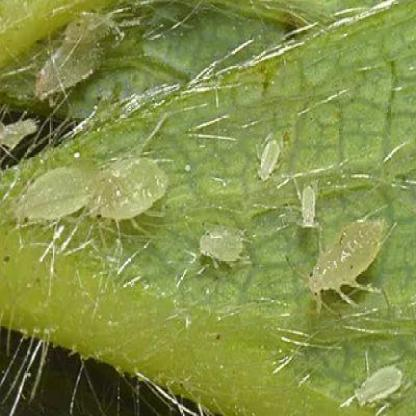aphid: (303, 214, 402, 317), (88, 139, 180, 246), (5, 154, 94, 237), (27, 31, 109, 103), (194, 208, 261, 277), (339, 356, 416, 416), (291, 169, 330, 246), (253, 132, 286, 189)
